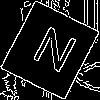N: (25, 25, 80, 83)
